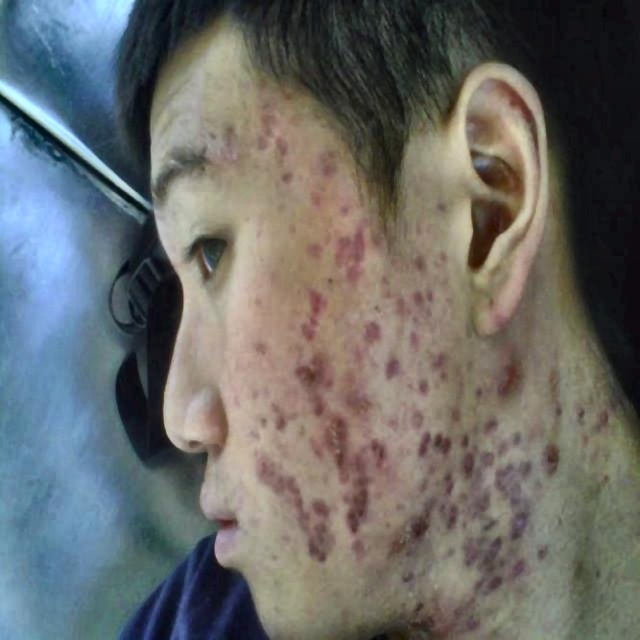nodule: (333, 458, 376, 522), (325, 416, 363, 465), (288, 357, 331, 398), (452, 517, 487, 559), (492, 354, 527, 394), (293, 312, 327, 353), (344, 386, 376, 422), (316, 140, 342, 183), (497, 503, 529, 536), (471, 564, 504, 596), (269, 468, 300, 502), (337, 219, 368, 252), (243, 449, 274, 482), (344, 259, 370, 298), (398, 504, 421, 548), (286, 496, 312, 532), (477, 412, 506, 444), (538, 362, 564, 397), (398, 325, 424, 359), (326, 229, 348, 269), (484, 431, 508, 466), (303, 429, 331, 459), (248, 338, 279, 365), (346, 530, 368, 568), (593, 393, 615, 431), (368, 434, 393, 467), (481, 534, 508, 564), (280, 162, 300, 202), (574, 429, 602, 457), (408, 371, 433, 402), (497, 464, 525, 491), (411, 287, 436, 317), (536, 442, 560, 471), (307, 484, 326, 520), (380, 353, 399, 387), (458, 453, 480, 481), (309, 371, 332, 397), (271, 390, 286, 428), (546, 394, 566, 422), (311, 535, 334, 559), (412, 428, 429, 460), (405, 248, 424, 276), (442, 496, 461, 524), (306, 178, 325, 206), (397, 567, 421, 589), (468, 486, 487, 511), (508, 554, 526, 579), (264, 112, 281, 138), (571, 401, 588, 424), (436, 430, 450, 454), (366, 329, 379, 346), (308, 296, 322, 311), (290, 158, 296, 166)
